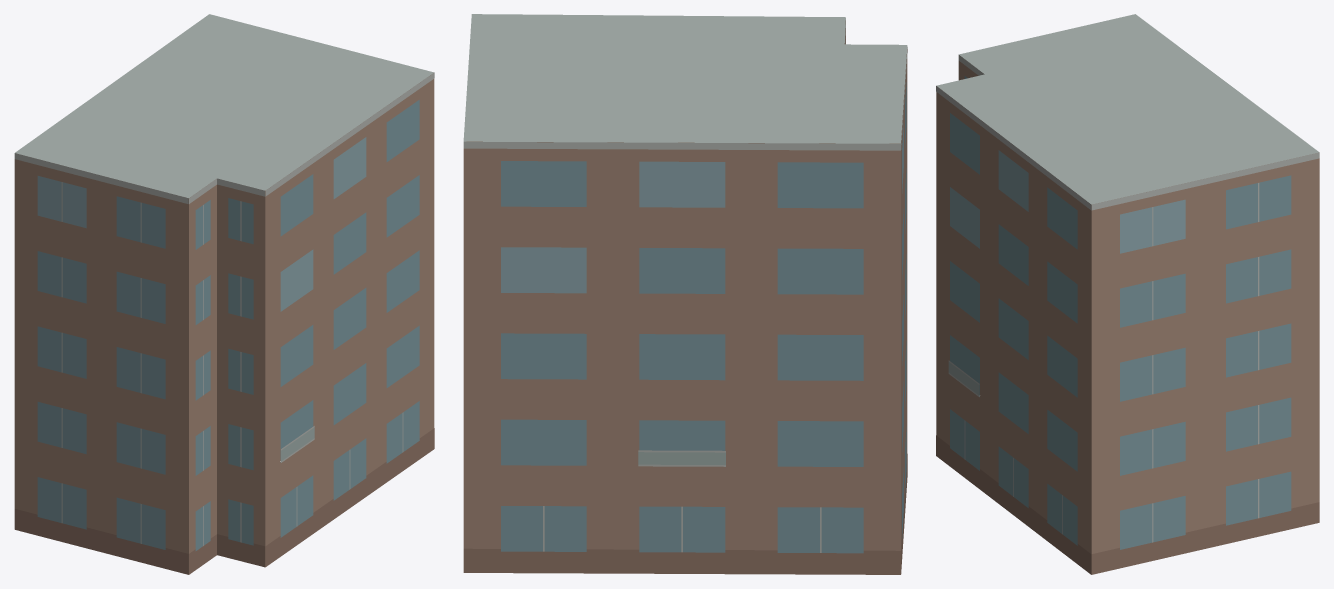
Rendered from survey-upis-32917318.glb.
3 renders of one model, left to right at view 1: azimuth 30°, elevation 25°; view 2: azimuth 150°, elevation 25°; view 3: azimuth 270°, elevation 25°, orthographic. The views are drawn at different scales.
Parts seen in each view (by area): view 1: survey-upis-32917318.tmp; view 2: survey-upis-32917318.tmp; view 3: survey-upis-32917318.tmp.
Part boxes in pixels (box(x1,y1,x2,y2)): survey-upis-32917318.tmp: box(14, 14, 434, 574); survey-upis-32917318.tmp: box(463, 14, 907, 574); survey-upis-32917318.tmp: box(936, 14, 1319, 574).
Size of the model in its own units: 16.79 by 15.2 by 14.28.
